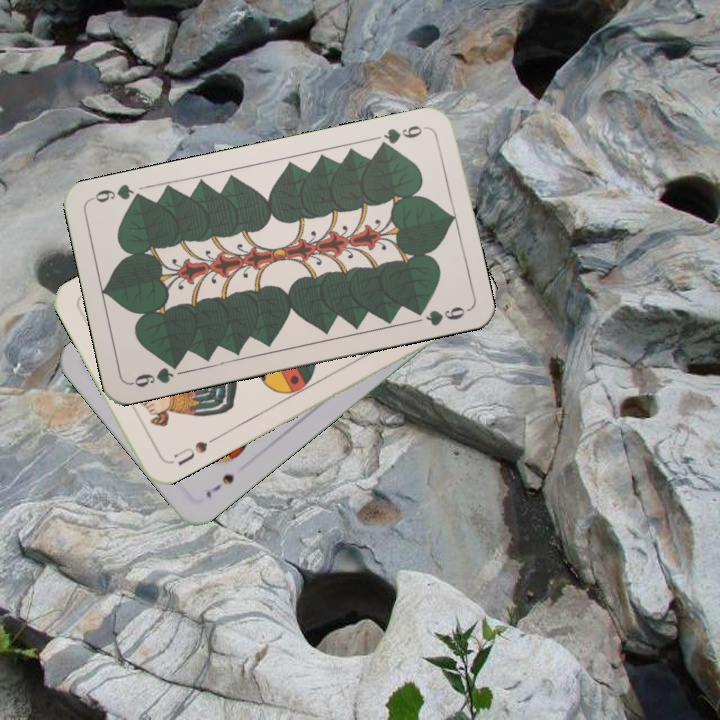G9: (127, 357, 183, 390), (373, 121, 429, 152)
S7: (201, 470, 237, 500)
SU: (164, 433, 219, 468)
